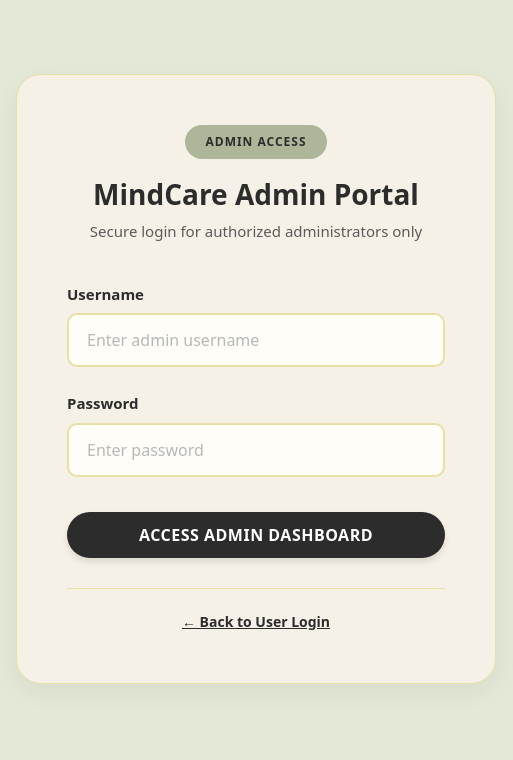
AdminLogin — unauthorized role › shows access denied when role is not admin
Type "user@mindcare.com" into the field labelled "Username" at (256, 340), box [67,313,445,367]
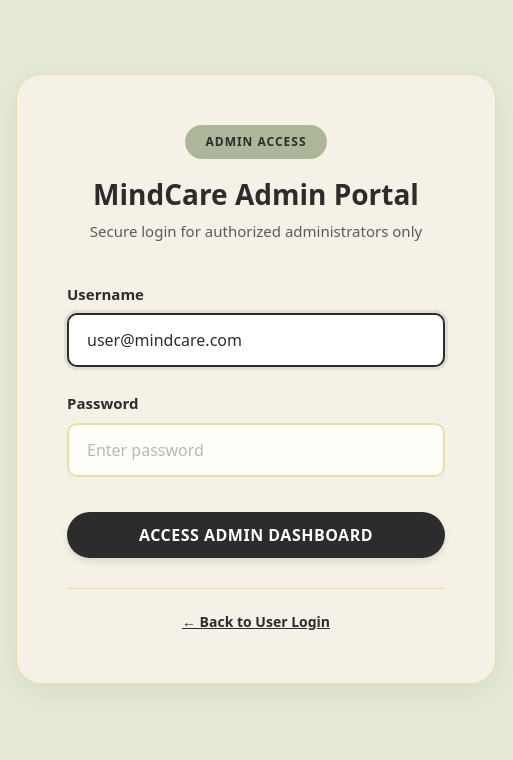
Type "pass" into the password field labelled "Password" at (256, 450), box [67,423,445,477]
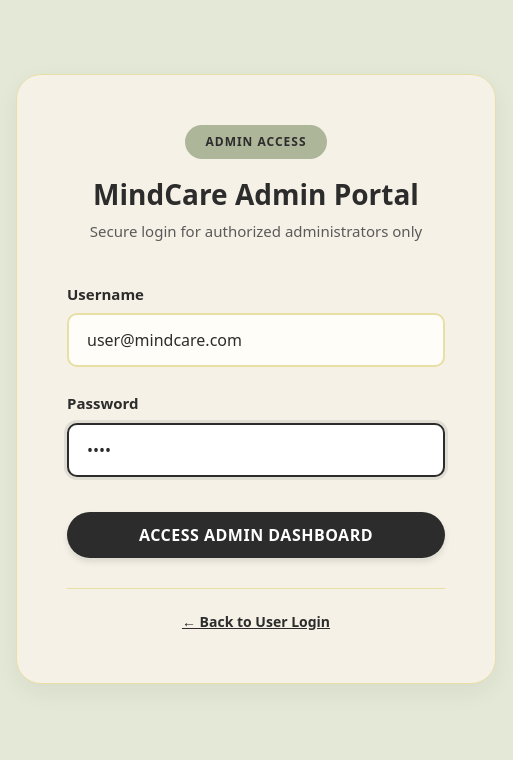
Click the button "Access Admin Dashboard" at (256, 535), box [67,512,445,558]
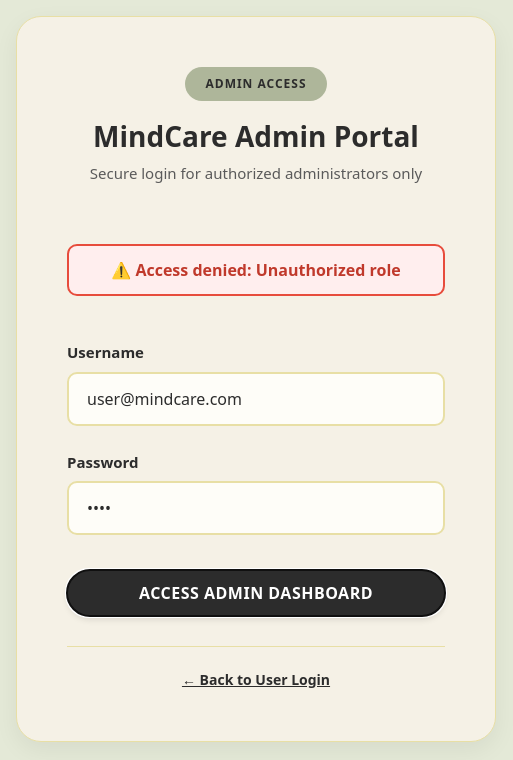
Now the text "⚠️ Access denied: Unauthorized role" is shown, box [67,244,445,296]
